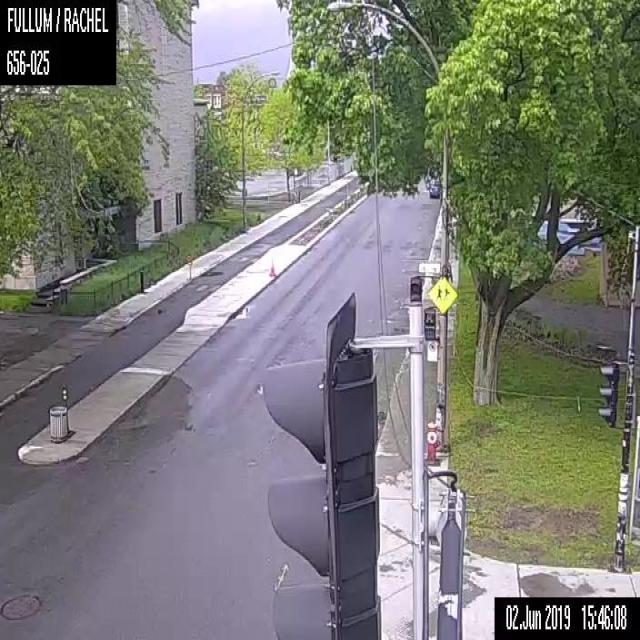construction: (268, 257, 276, 275)
vehicle: (428, 180, 440, 197)
